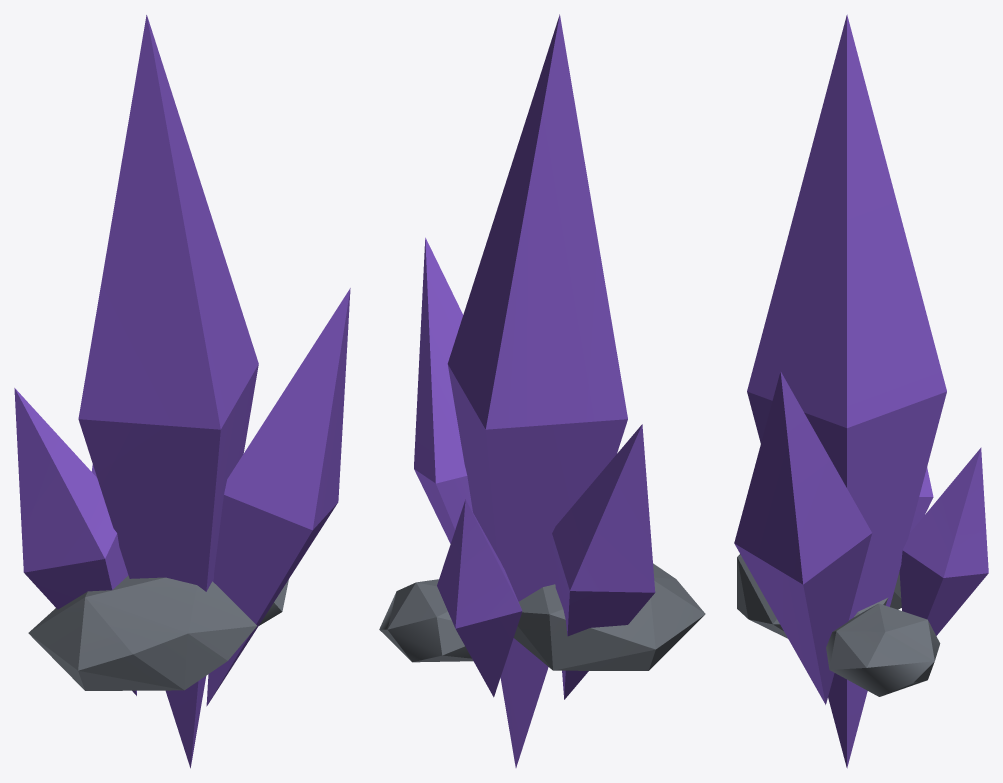
Rendered from prop_crystalA_lod2.glb.
3 renders of one model, left to right at view 1: azimuth 30°, elevation 25°; view 2: azimuth 150°, elevation 25°; view 3: azimuth 270°, elevation 25°, orthographic. The views are drawn at different scales.
Parts seen in each view (by area): view 1: prop_crystalA_lod2; view 2: prop_crystalA_lod2; view 3: prop_crystalA_lod2.
Part boxes in pixels (left/top/right/bottom): prop_crystalA_lod2: left=14, top=15, right=350, bottom=768; prop_crystalA_lod2: left=379, top=14, right=705, bottom=767; prop_crystalA_lod2: left=734, top=14, right=988, bottom=768.
Bounding box in the file's own units: 0.7034 × 1.85 × 0.581.
